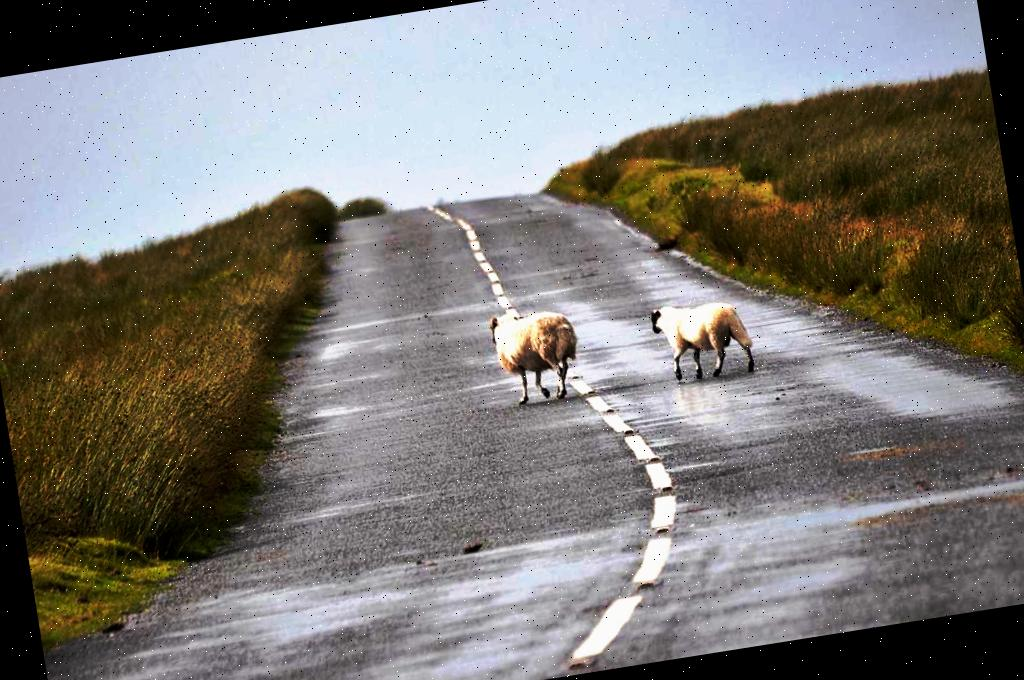Sheep: (647, 292, 757, 388), (488, 304, 584, 407)
